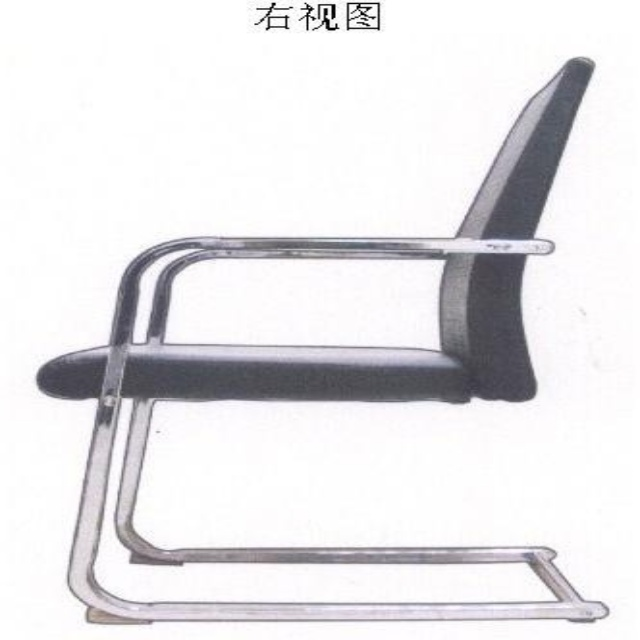obstacle: (37, 58, 605, 623)
